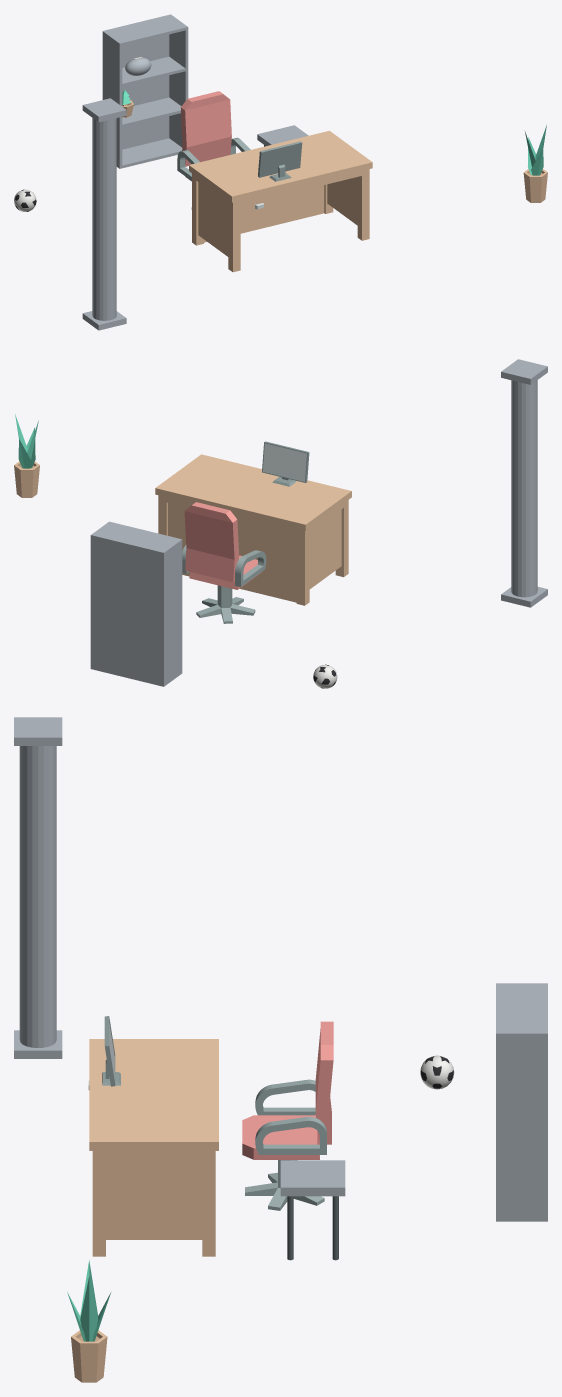
3 views of the same model, one above another, from view 1: azimuth 30°, elevation 25°; view 2: azimuth 150°, elevation 25°; view 3: azimuth 270°, elevation 25° (orthographic). The views are drawn at different scales.
Parts seen in each view (by area): view 1: desk_blue__desk(Clone), column_cyan__column_cyan shaft, deskchair_black__chair, shelf_orange__shelf_orange back, shelf_orange__shelf_orange side_l, shelf_orange__shelf_orange side_r, monitor_gray__computerScreen(Clone), shelf_orange__shelf_orange board3, shelf_orange__shelf_orange board0, shelf_orange__shelf_orange board1, shelf_orange__shelf_orange board2, column_cyan__column_cyan capital (+6 smaller); view 2: desk_blue__desk(Clone), shelf_orange__shelf_orange back, column_cyan__column_cyan shaft, deskchair_black__chair, shelf_orange__shelf_orange side_l, monitor_gray__computerScreen(Clone), shelf_orange__shelf_orange board3, deskchair_black__chairDesk(Clone), column_cyan__column_cyan capital, plant_pink__pottedPlant(Clone), plant_pink__plant, shelf_orange__shelf_orange side_r (+2 smaller); view 3: desk_blue__desk(Clone), column_cyan__column_cyan shaft, shelf_orange__shelf_orange side_r, deskchair_black__chair, stool_purple__stool_purple seat, shelf_orange__shelf_orange board3, plant_pink__pottedPlant(Clone), column_cyan__column_cyan capital, plant_pink__plant, deskchair_black__chairDesk(Clone), soccer_white__soccer_white, column_cyan__column_cyan plinth.
Boxes of the visible parts, box(x1,y1,x2,y2) form: desk_blue__desk(Clone): box(189, 130, 372, 272); column_cyan__column_cyan shaft: box(92, 118, 116, 320); deskchair_black__chair: box(177, 91, 250, 181); shelf_orange__shelf_orange back: box(105, 15, 169, 149); shelf_orange__shelf_orange side_l: box(102, 30, 122, 168); shelf_orange__shelf_orange side_r: box(168, 14, 188, 147); monitor_gray__computerScreen(Clone): box(258, 141, 302, 181); shelf_orange__shelf_orange board3: box(106, 16, 185, 45); shelf_orange__shelf_orange board0: box(122, 138, 182, 168); shelf_orange__shelf_orange board1: box(122, 97, 181, 127); shelf_orange__shelf_orange board2: box(122, 56, 185, 86); column_cyan__column_cyan capital: box(82, 98, 126, 122); desk_blue__desk(Clone): box(155, 454, 351, 605); shelf_orange__shelf_orange back: box(93, 535, 161, 685); column_cyan__column_cyan shaft: box(511, 380, 537, 597); deskchair_black__chair: box(182, 502, 266, 589); shelf_orange__shelf_orange side_l: box(161, 538, 182, 686); monitor_gray__computerScreen(Clone): box(262, 441, 309, 486); shelf_orange__shelf_orange board3: box(95, 522, 178, 551); deskchair_black__chairDesk(Clone): box(196, 585, 255, 623); column_cyan__column_cyan capital: box(501, 359, 547, 384); plant_pink__pottedPlant(Clone): box(14, 461, 39, 497); plant_pink__plant: box(15, 414, 38, 468); shelf_orange__shelf_orange side_r: box(90, 521, 111, 669); desk_blue__desk(Clone): box(89, 1039, 218, 1256); column_cyan__column_cyan shaft: box(19, 746, 56, 1047); shelf_orange__shelf_orange side_r: box(496, 1031, 547, 1221); deskchair_black__chair: box(242, 1021, 333, 1159); stool_purple__stool_purple seat: box(280, 1160, 345, 1196); shelf_orange__shelf_orange board3: box(496, 985, 544, 1031); plant_pink__pottedPlant(Clone): box(71, 1330, 107, 1382); column_cyan__column_cyan capital: box(14, 717, 62, 745); plant_pink__plant: box(67, 1260, 110, 1341); deskchair_black__chairDesk(Clone): box(245, 1160, 324, 1210); soccer_white__soccer_white: box(420, 1055, 454, 1089); column_cyan__column_cyan plinth: box(14, 1030, 62, 1058).
Size of the model in its own units: 5.29 by 2.28 by 3.44.
